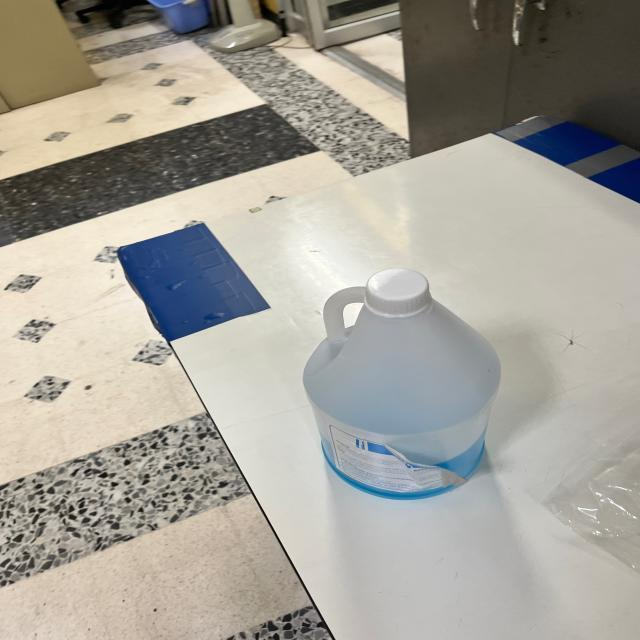HDPE Plastic: (306, 261, 502, 498)
